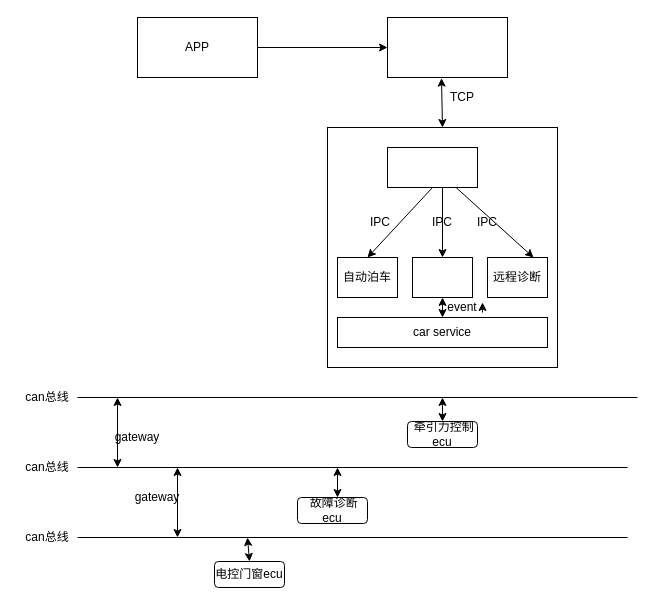
Some shapes in this 656 by 605 pixel diagram are drawn without their labels. Here are the shapes that lost their labels. From the top down, the box of each, then its label:
(386, 16, 508, 78): 长连接系统
(386, 146, 478, 188): push进程
(412, 256, 472, 298): 车控
